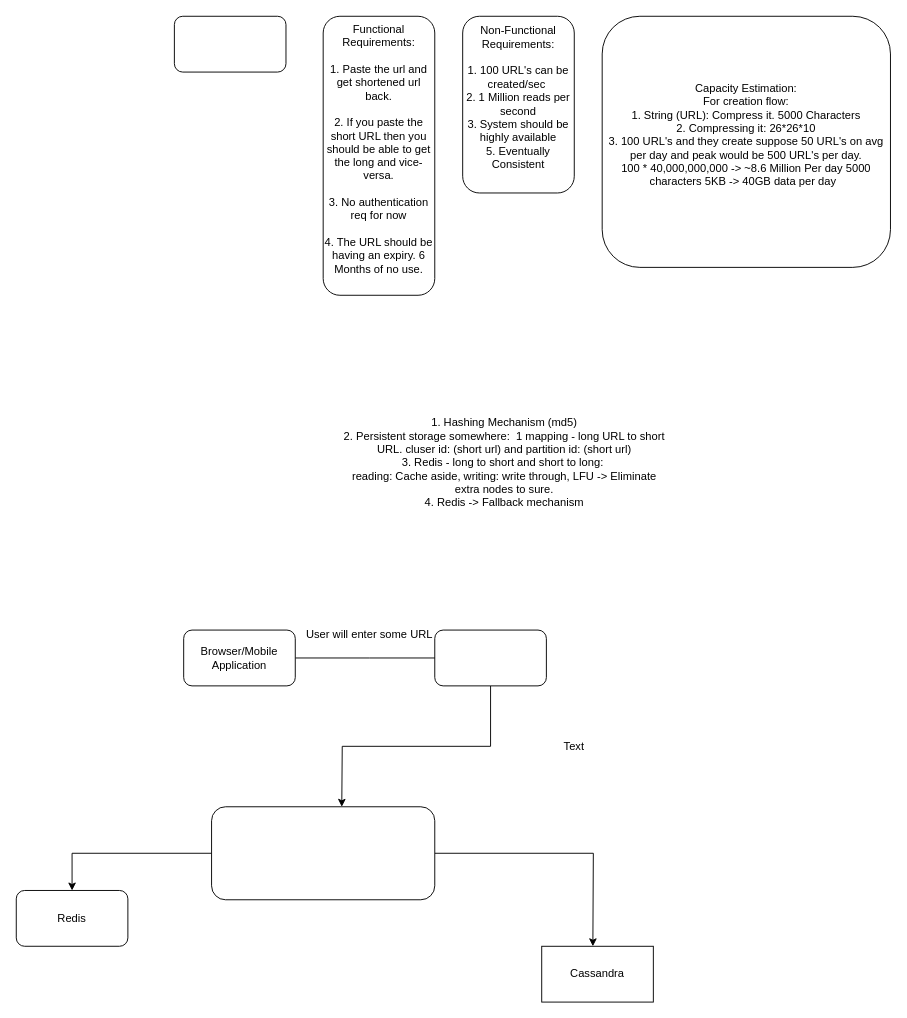
The diagram is 907 pixels wide and 1018 high, and some of its shapes have lost their labels. The centre of each missing label's shape, as x and y in pixels:
"Load balancers" goes at pixel 490 657.
"Short URL Generator Service. (md5) -> short 5 -> Characters bit.ly/2shSDFS" goes at pixel 323 853.
"URL Shortner" goes at pixel 229 43.
